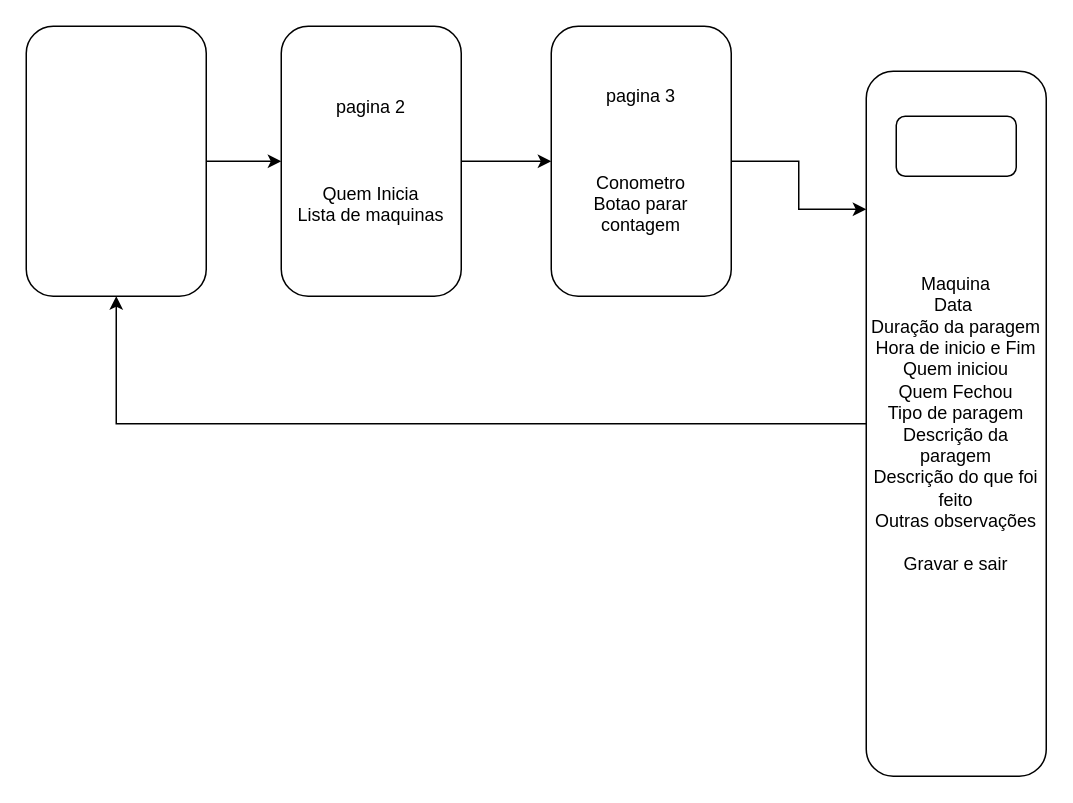
This 1073x803 diagram has some shape labels left out. Here are the shapes that lost their labels. From the top down, the centre of each, then its label:
point (115, 160): pagina 1 logotipo botao iniciar
point (955, 145): pagina 4
